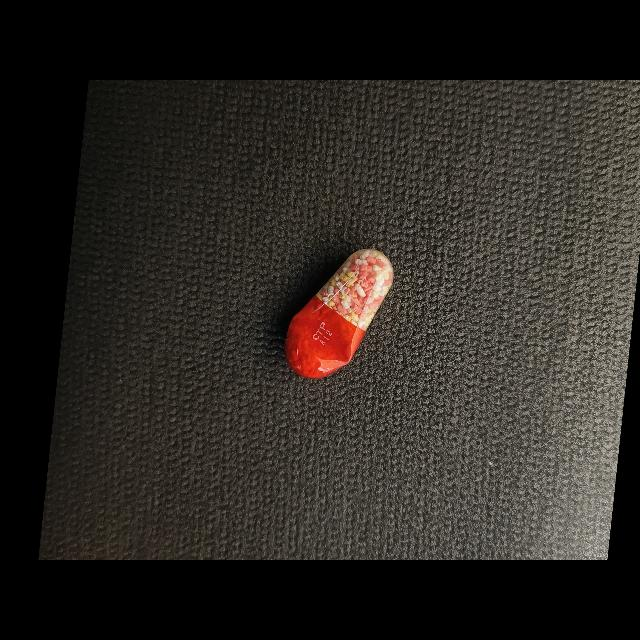Defective Capsule: (285, 249, 394, 379)
